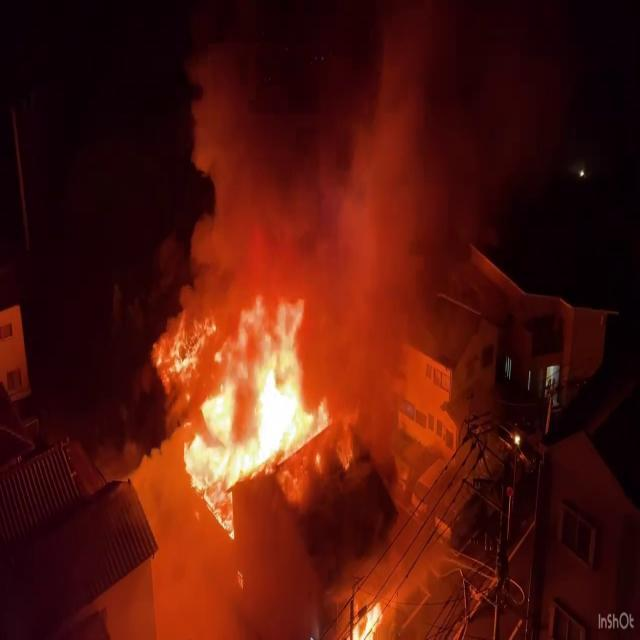Fire: (182, 286, 332, 526)
Smoke: (174, 1, 449, 328)
